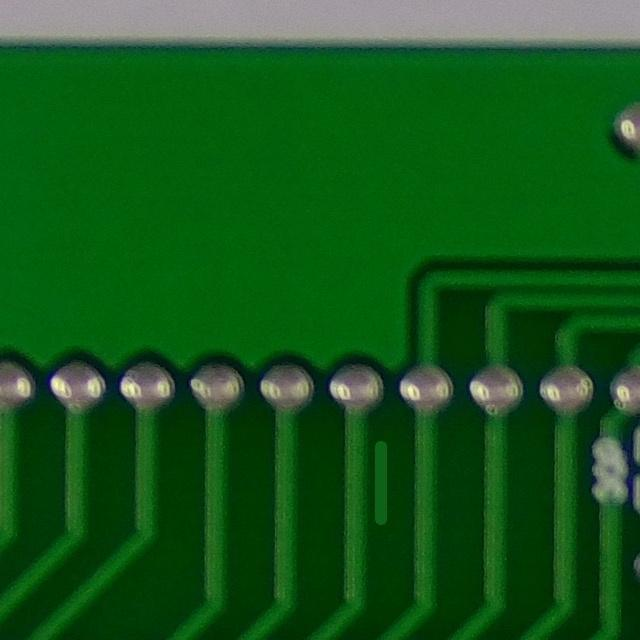spurious_copper: (356, 433, 404, 531)
